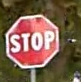stop: (5, 13, 60, 67)
